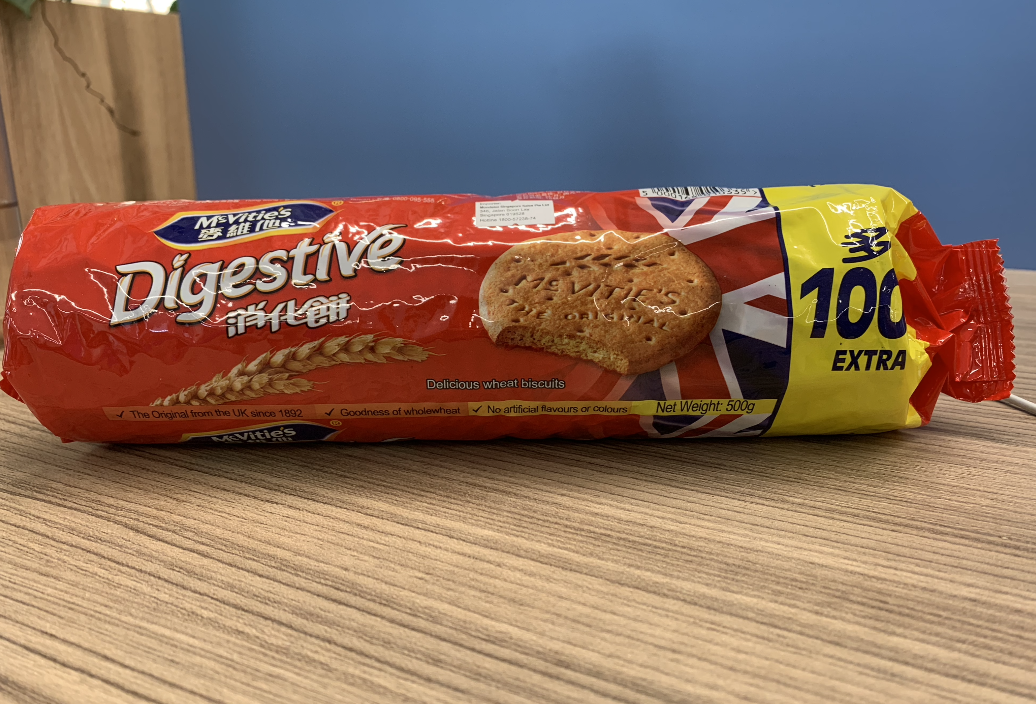cookies_450g: (73, 206, 916, 413)
